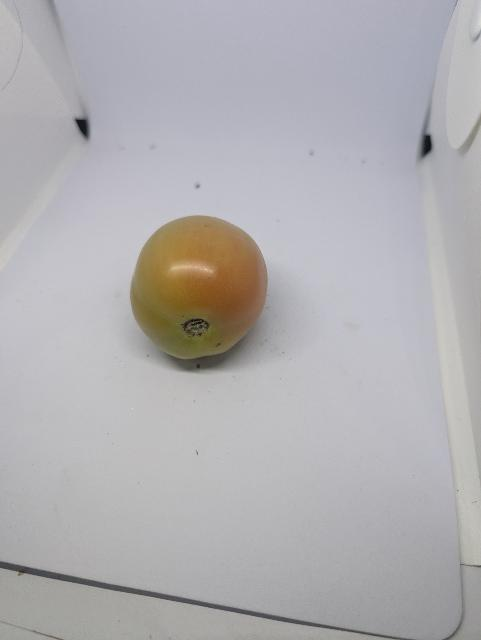turning: (126, 213, 284, 382)
